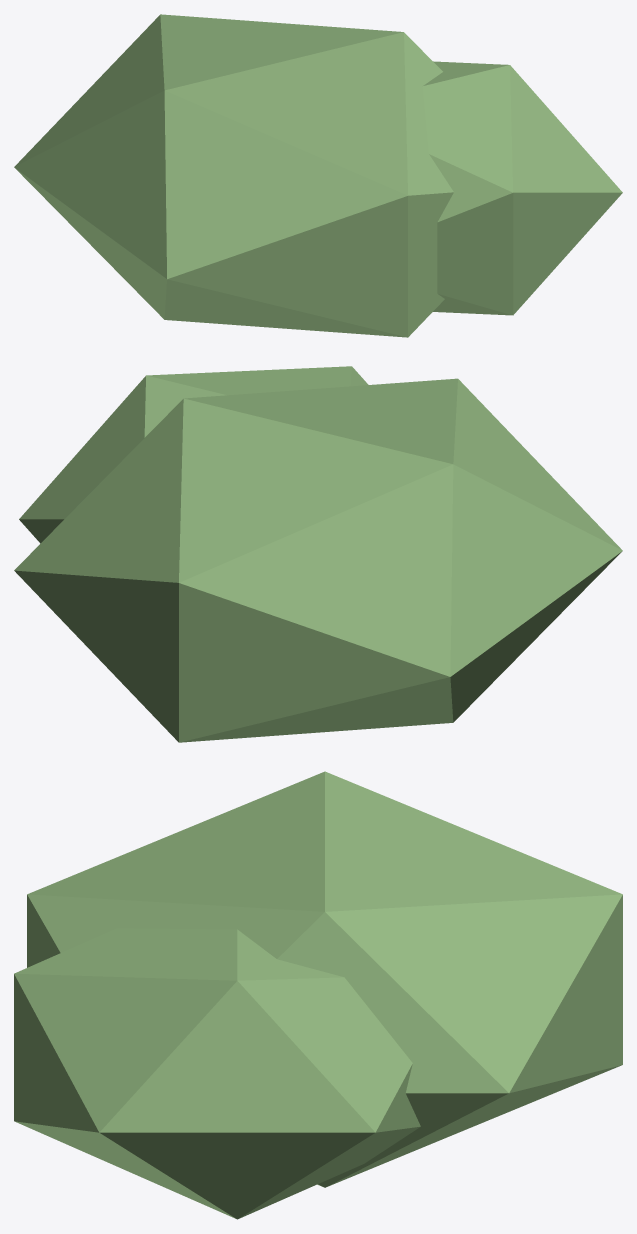
The model's file is bush_far.glb.
3 views of the same model, one above another, from view 1: azimuth 30°, elevation 25°; view 2: azimuth 150°, elevation 25°; view 3: azimuth 270°, elevation 25° (orthographic). The views are drawn at different scales.
Parts seen in each view (by area): view 1: bush_far; view 2: bush_far; view 3: bush_far.
Boxes of the visible parts, <box> form: bush_far: <box>14,14,622,337</box>; bush_far: <box>14,366,622,742</box>; bush_far: <box>14,771,622,1219</box>.
Size of the model in its own units: 2 by 1 by 2.
